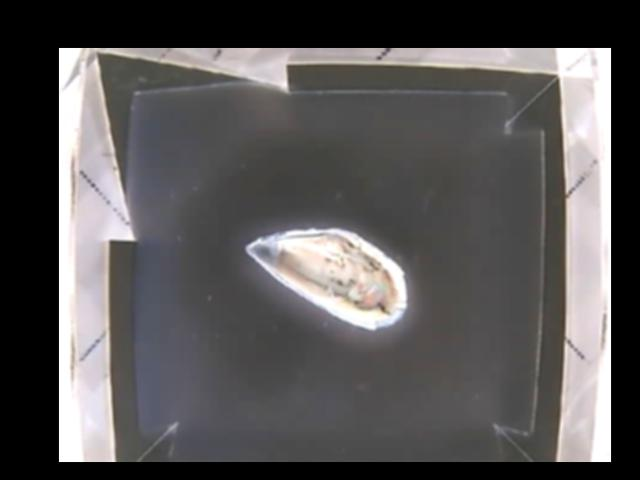Shell: (246, 226, 408, 335)
